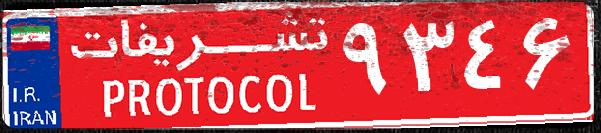3: (400, 20, 460, 115)
4: (460, 20, 520, 115)
6: (520, 20, 580, 115)
9: (340, 20, 400, 115)
تشریفات: (60, 8, 340, 125)
